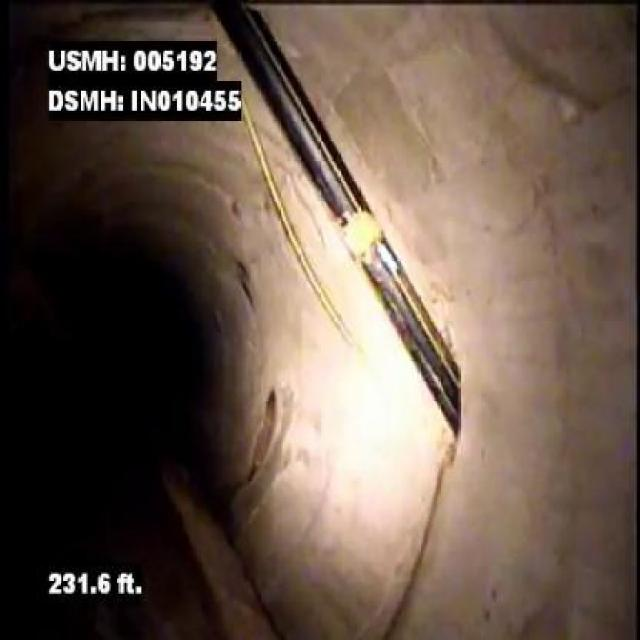Utility intrusion: (216, 0, 464, 440)
